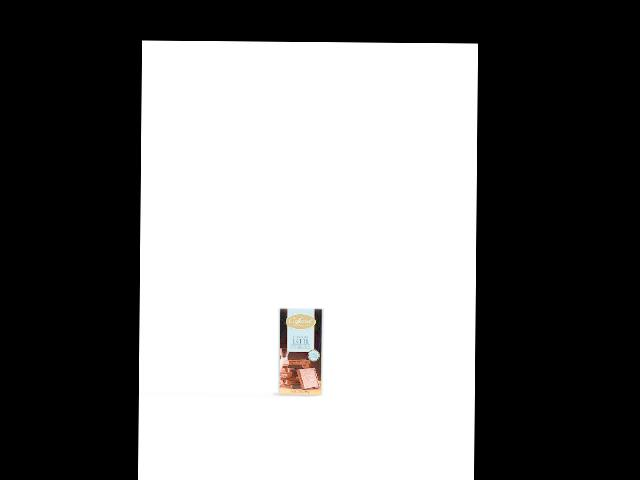chocolate: (275, 307, 324, 396)
